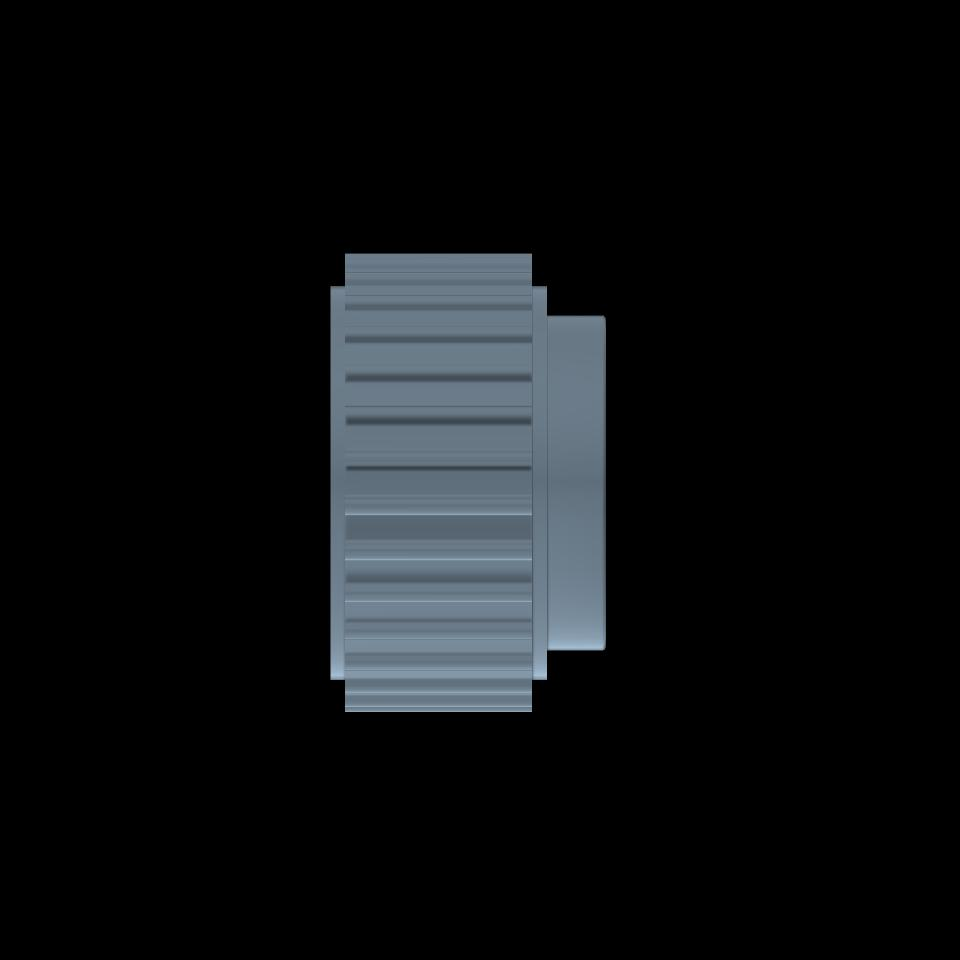Straight: (346, 254, 532, 712)
